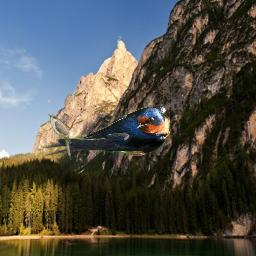Cuckoo: (47, 113, 72, 160)
Swallow: (43, 105, 171, 156)
